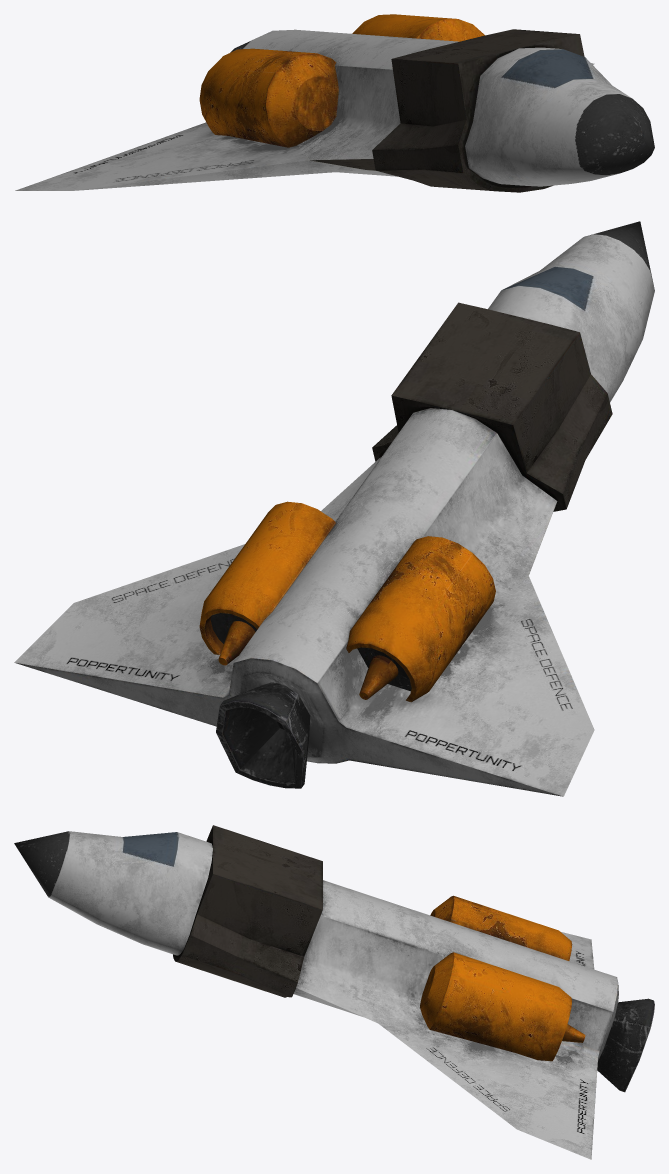
The model's file is Ship 1.fbx.
3 renders of one model, top to bottom at view 1: azimuth 30°, elevation 25°; view 2: azimuth 150°, elevation 25°; view 3: azimuth 270°, elevation 25°, orthographic. The views are drawn at different scales.
Parts seen in each view (by area): view 1: Cylinder053; view 2: Cylinder053; view 3: Cylinder053.
Part boxes in pixels (x1,y1,x2,y2): Cylinder053: [15, 14, 654, 192]; Cylinder053: [14, 221, 654, 796]; Cylinder053: [14, 825, 654, 1159].
Size of the model in its own units: 441 by 232 by 542.
Materials: 1 (1 with a texture image).
